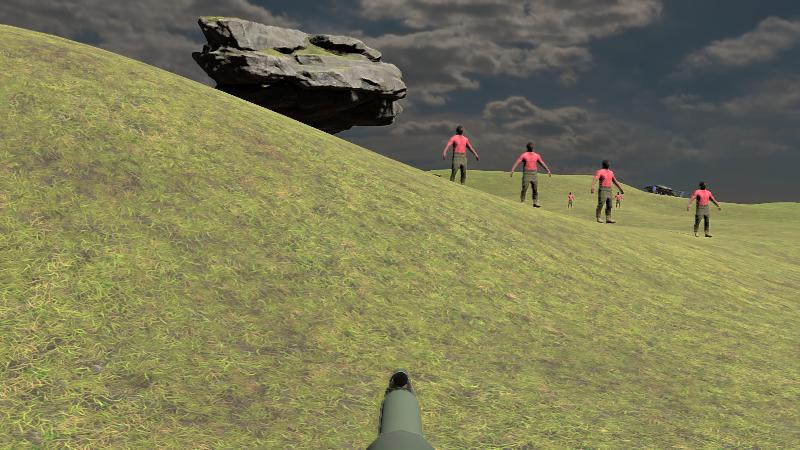Human: (512, 141, 551, 209), (444, 123, 478, 201), (592, 158, 623, 224), (688, 180, 721, 239)
